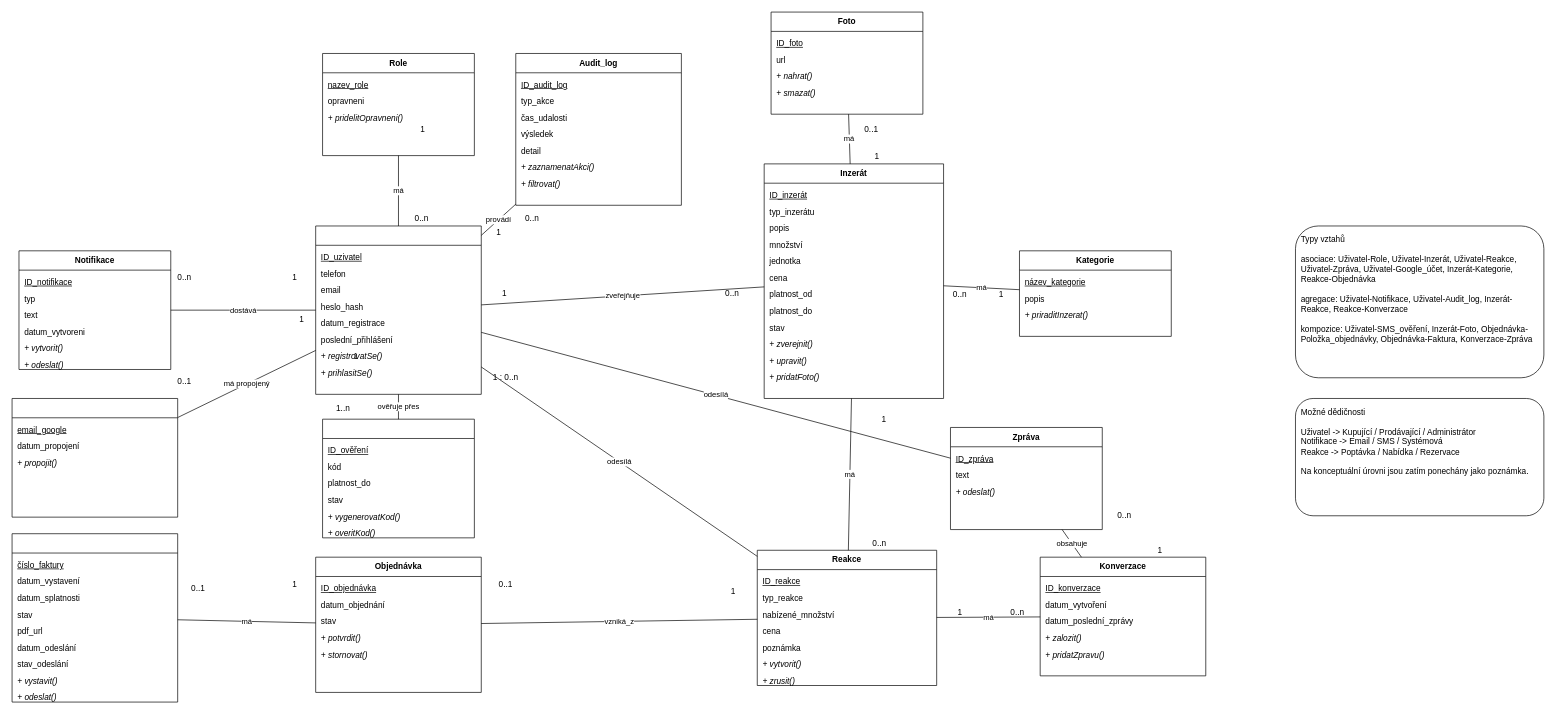
This 1556x715 diagram has some shape labels left out. The shapes that lost their labels are listed below. From the top down, each one's box as (x1, y1, x2, y2) in pixels, then its label:
(315, 225, 481, 394): Uživatel
(11, 398, 178, 517): Google_účet
(322, 418, 474, 538): SMS_ověření
(11, 533, 178, 702): Faktura
